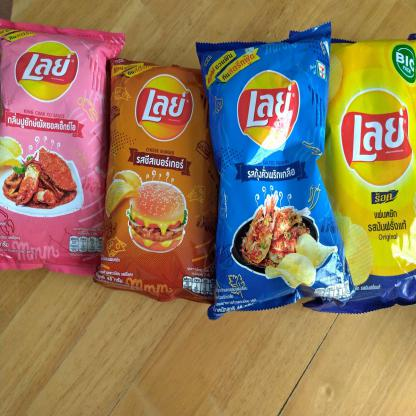potatochip: (195, 17, 360, 324), (90, 49, 229, 310), (0, 16, 127, 288), (298, 29, 415, 323)
